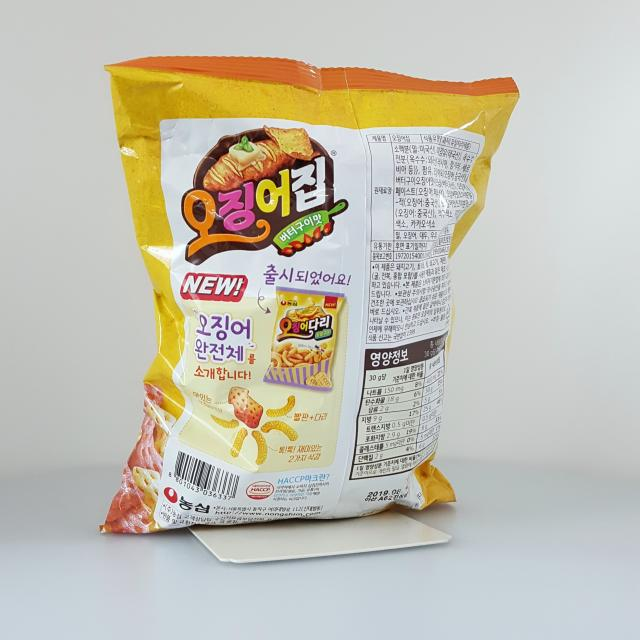-83G: (100, 57, 521, 534)
